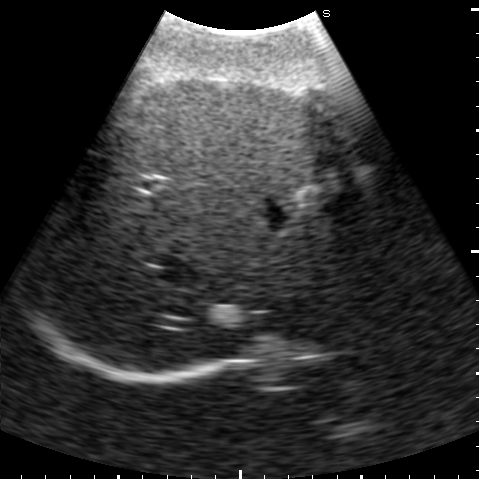S5: (119, 83, 346, 206)
S7: (34, 157, 169, 319)
S8: (109, 182, 371, 368)
Tumor: (208, 306, 245, 329), (295, 184, 324, 204)
